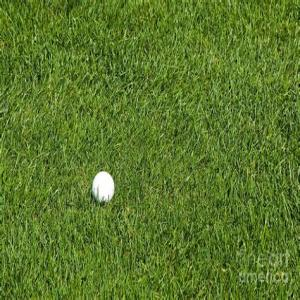Golf: (92, 169, 114, 202)
